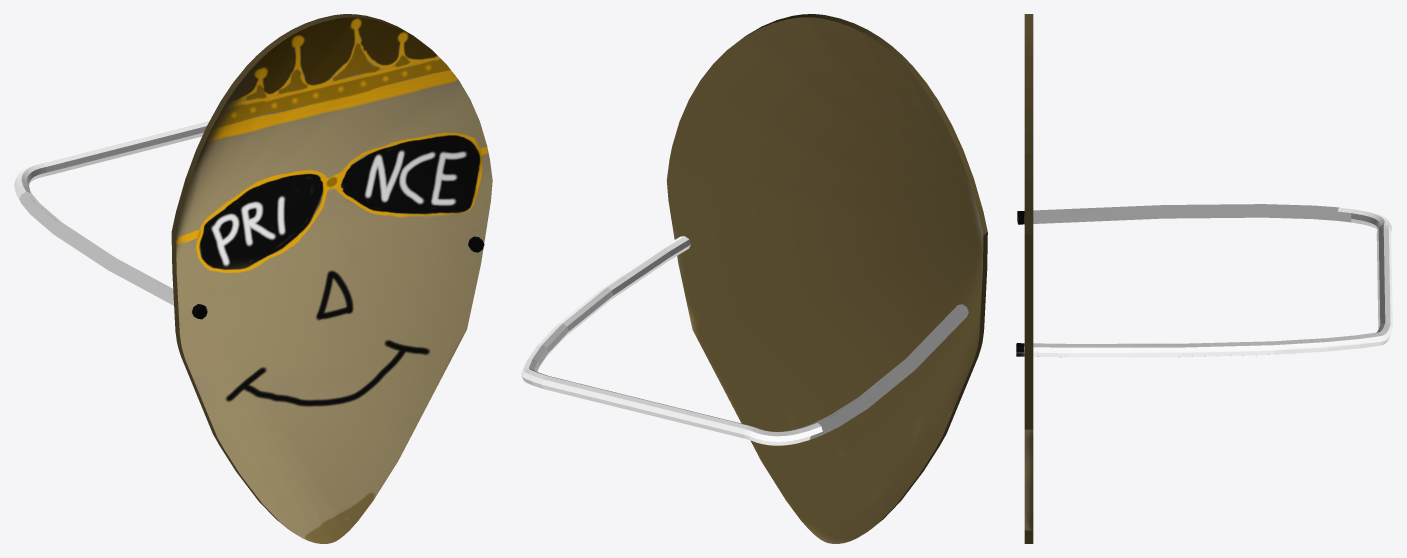
File: 230128_facemask-prince_mesh.fbx
3 renders of one model, left to right at view 1: azimuth 30°, elevation 25°; view 2: azimuth 150°, elevation 25°; view 3: azimuth 270°, elevation 25°, orthographic.
Visible parts, largest first — view 1: Extrude; view 2: Extrude; view 3: Extrude.
Part boxes in pixels (x1=…): Extrude: x1=14, y1=14, x2=492, y2=543; Extrude: x1=521, y1=14, x2=987, y2=543; Extrude: x1=1016, y1=14, x2=1392, y2=543.
Bounding box in the file's own units: 25.02 × 39.12 × 25.98.
1 material, 1 textured.
